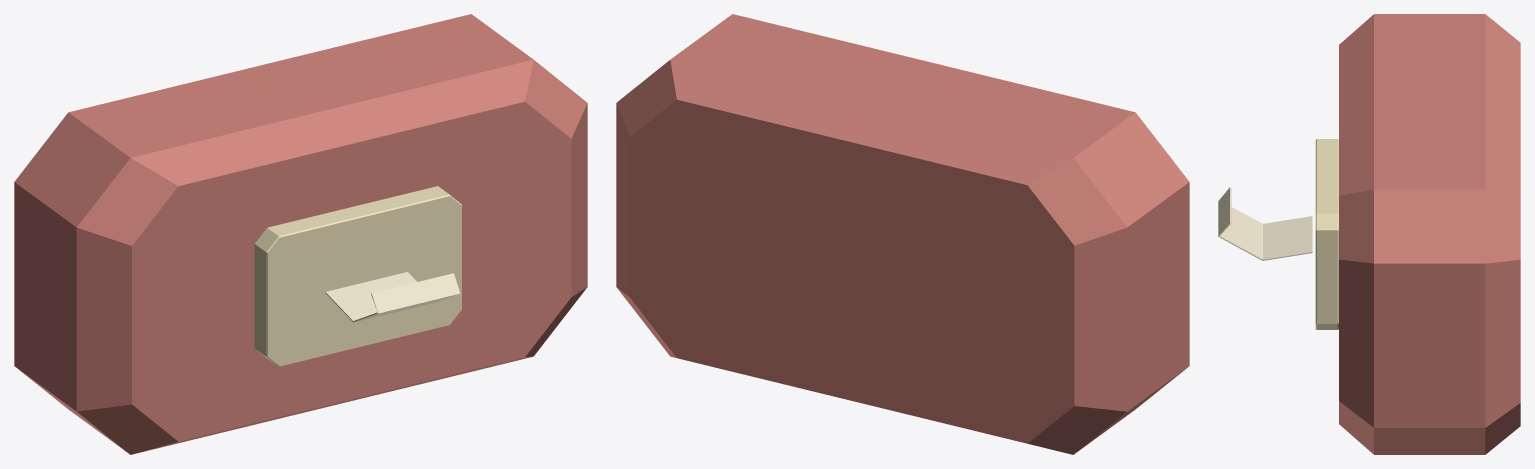
File: baby_wipes.glb
3 renders of one model, left to right at view 1: azimuth 30°, elevation 25°; view 2: azimuth 150°, elevation 25°; view 3: azimuth 270°, elevation 25°, orthographic. The views are drawn at different scales.
Visible parts, largest first — view 1: baby_wipes; view 2: baby_wipes; view 3: baby_wipes.
Boxes of the visible parts, <box> form: baby_wipes: <box>14,14,587,454</box>; baby_wipes: <box>616,14,1189,454</box>; baby_wipes: <box>1218,14,1520,454</box>.
Size of the model in its own units: 0.18 by 0.1014 by 0.1032.
